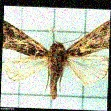Spodoptera litura: (2, 16, 109, 99)
